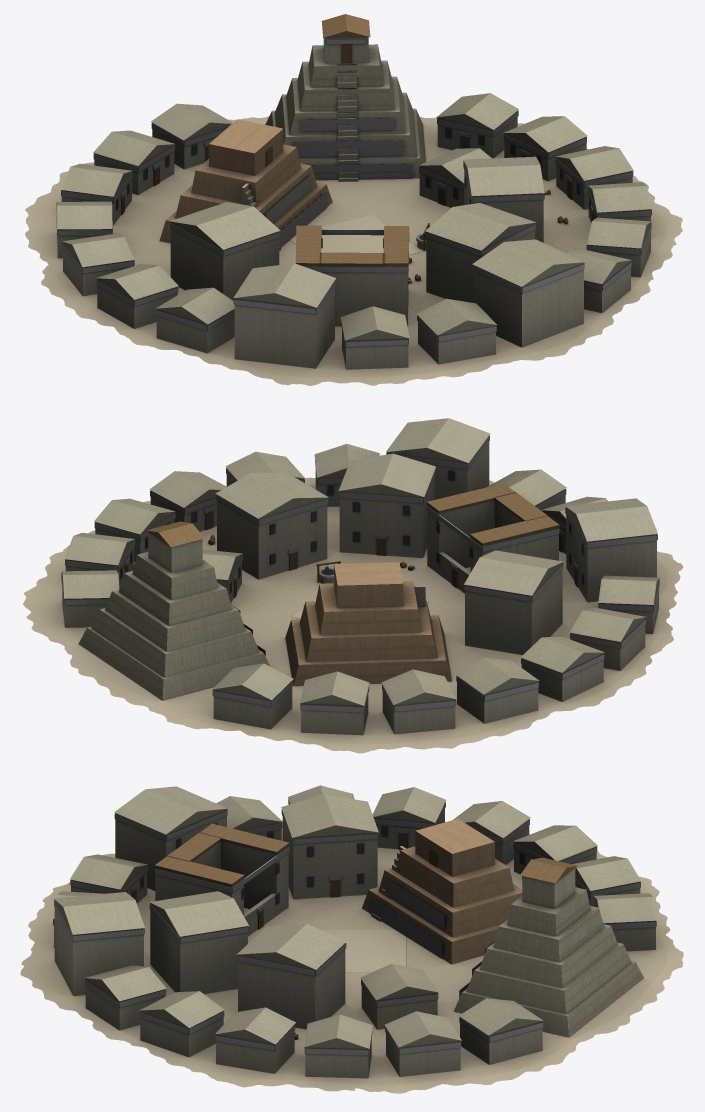
The model's file is classical-town-big-b-americas.glb.
3 views of the same model, one above another, from view 1: azimuth 30°, elevation 25°; view 2: azimuth 150°, elevation 25°; view 3: azimuth 270°, elevation 25° (orthographic).
Parts seen in each view (by area): view 1: LOD0; view 2: LOD0; view 3: LOD0.
Part boxes in pixels (x1,y1,x2,y2): LOD0: [25, 14, 682, 385]; LOD0: [23, 418, 683, 753]; LOD0: [20, 785, 683, 1093].
Size of what is drawn, in the model's own units: 7.94 by 1.73 by 7.95.
Materials: 3 (3 with a texture image).
